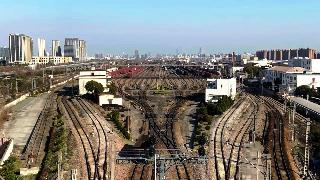train: (133, 135, 155, 161)
